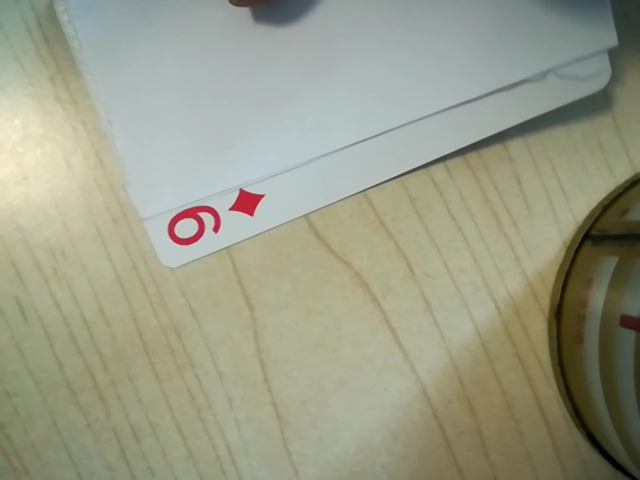fk 9: (156, 186, 264, 254)
